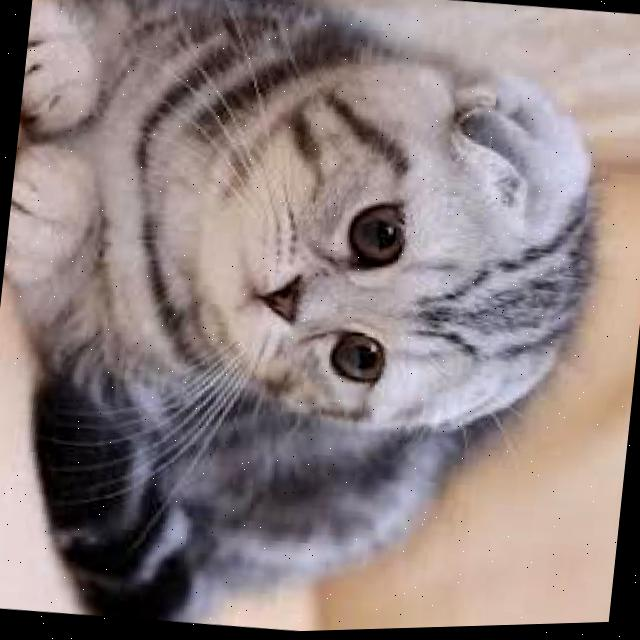Scottish Fold: (0, 0, 627, 640)
